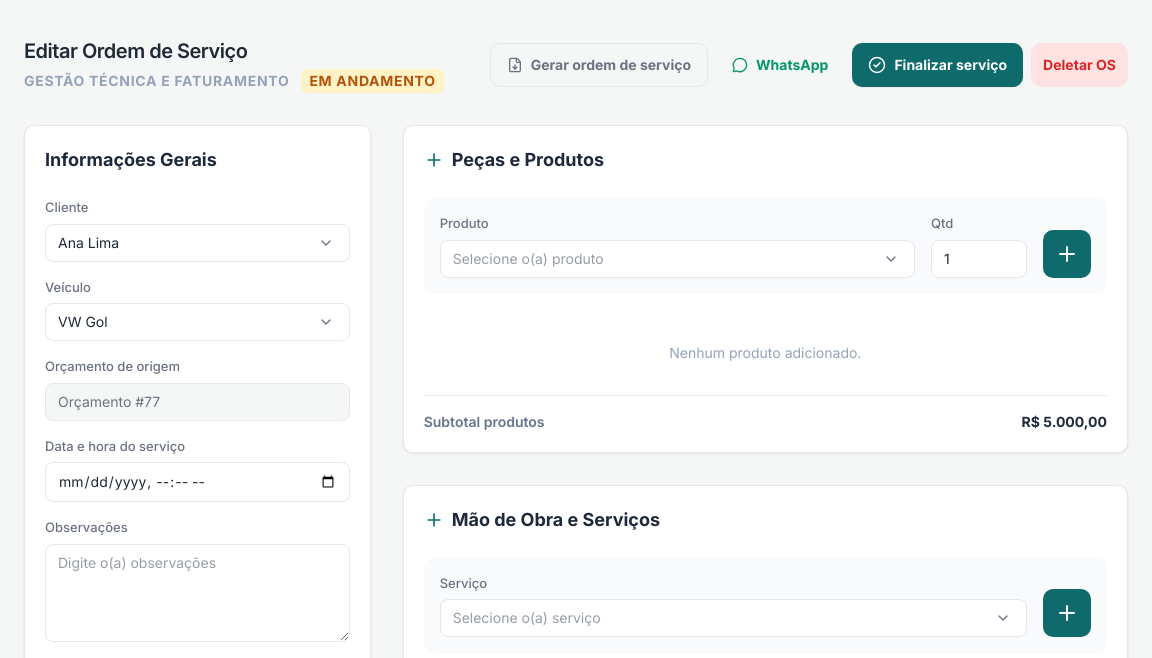
<OrderEdit> › trocar o veículo habilita o Salvar OS
The image size is (1152, 658).
Expected: the text "Orçamento de origem" is shown, [45,358,180,374]
Click the dropdown below "Veículo" at (197, 322), box [45,303,350,341]
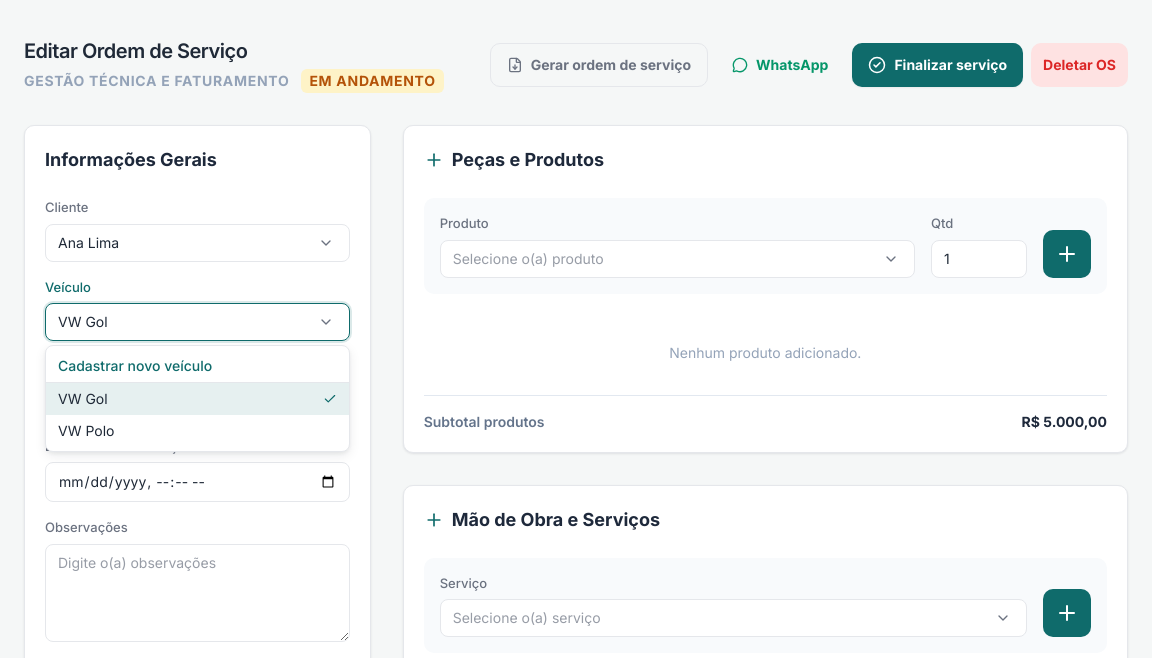
Click the option "VW Polo" at (86, 430), box [58,422,114,439]
(page scrolled)
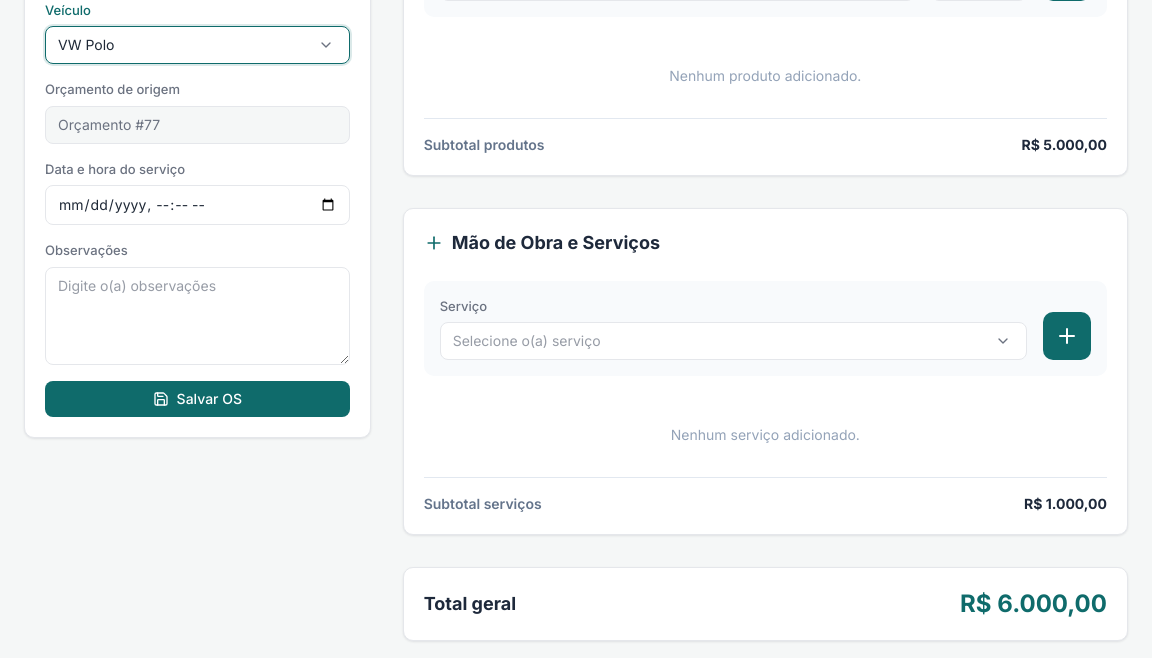
Now the button "Salvar OS" is enabled, box [45,380,350,416]
